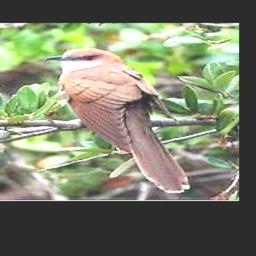Cuckoo: (45, 48, 190, 193)
